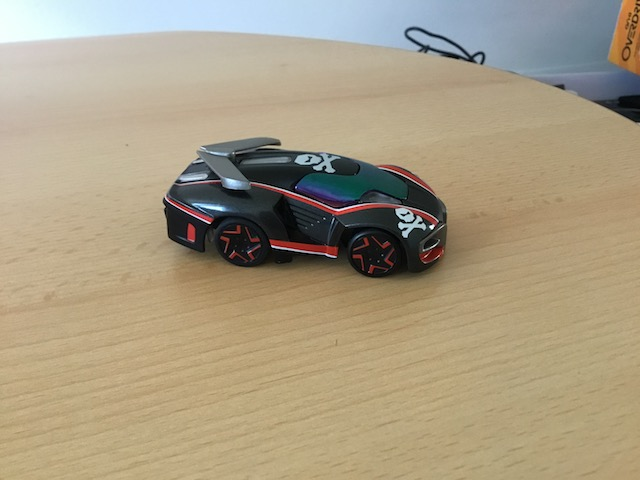car-red: (157, 131, 451, 280)
